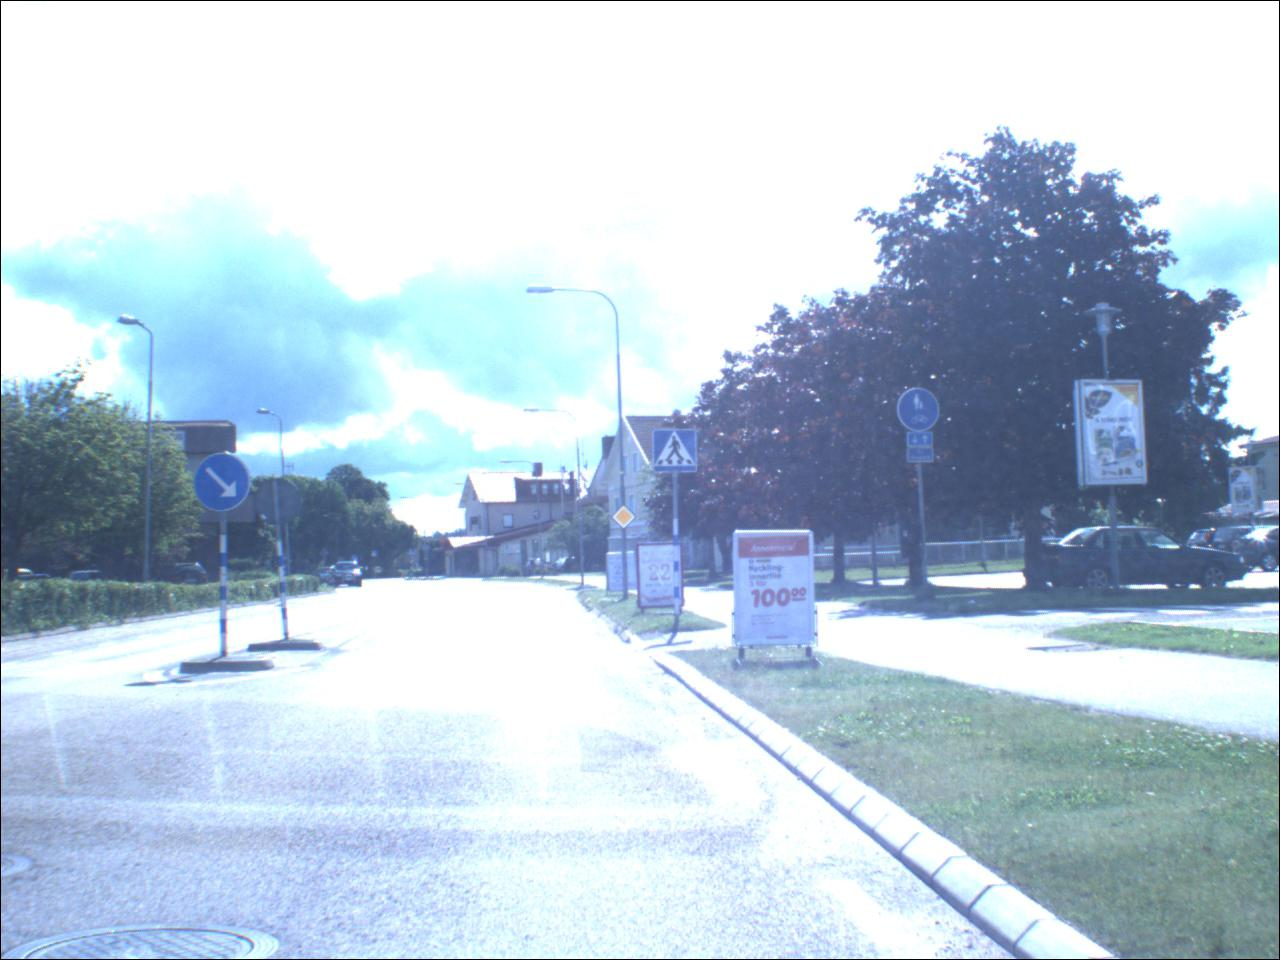PASS_RIGHT_SIDE: (195, 455, 255, 514)
PEDESTRIAN_CROSSING: (656, 432, 700, 475)
PRIORITY_ROAD: (614, 507, 639, 533)
